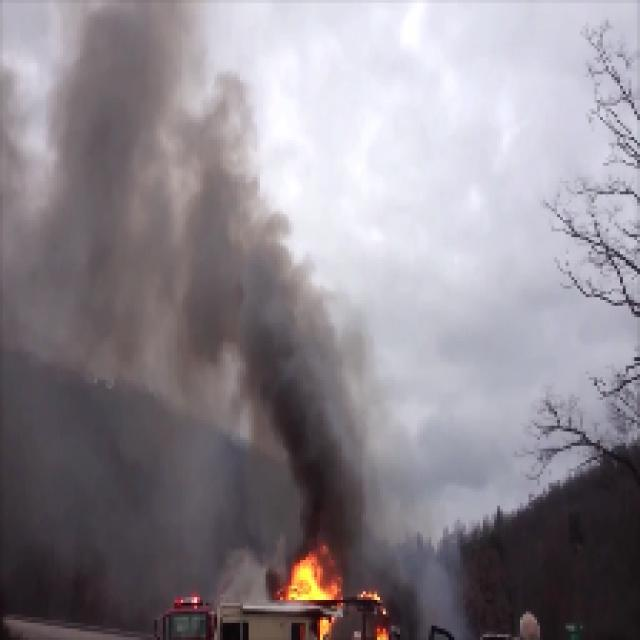Fire: (281, 550, 329, 604)
Smoke: (94, 52, 214, 234), (155, 226, 300, 366), (282, 370, 357, 530)
